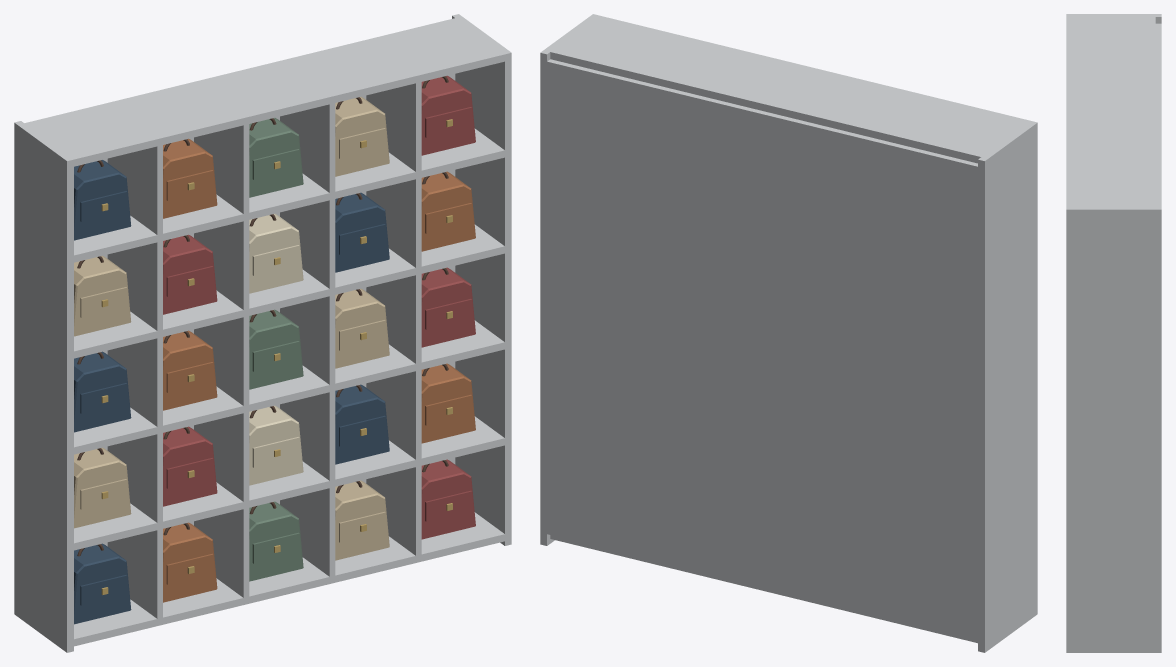
Rendered from shelf-bags.glb.
The picture shows the model from 3 angles, left to right: view 1: azimuth 30°, elevation 25°; view 2: azimuth 150°, elevation 25°; view 3: azimuth 270°, elevation 25°; orthographic projection. The views are drawn at different scales.
Parts seen in each view (by area): view 1: display-deck (×6), display-divider (×20), display-side (×2), stock-bags_40566b, stock-bags_c8b99c, stock-bags_9a5353, stock-bags_ad7652, stock-bags_718878, stock-bags_d9d1ba, stock-details_ad7652, stock-details_40566b, stock-details_9a5353 (+5 smaller); view 2: display-back, display-side (×2), display-deck (×2); view 3: display-side (×2), display-deck, display-back.
Part boxes in pixels (<box>): display-deck (×6): <box>24,18,504,646</box>; display-divider (×20): <box>107,82,421,618</box>; display-side (×2): <box>14,14,511,652</box>; stock-bags_40566b: <box>74,160,389,624</box>; stock-bags_c8b99c: <box>74,96,389,560</box>; stock-bags_9a5353: <box>163,75,475,539</box>; stock-bags_ad7652: <box>163,138,475,602</box>; stock-bags_718878: <box>249,118,303,581</box>; stock-bags_d9d1ba: <box>249,213,303,485</box>; stock-details_ad7652: <box>166,170,471,584</box>; stock-details_40566b: <box>80,191,385,605</box>; stock-details_9a5353: <box>166,107,471,521</box>; display-back: <box>547,59,977,639</box>; display-side (×2): <box>540,14,1037,652</box>; display-deck (×2): <box>550,15,1030,643</box>; display-side (×2): <box>1066,14,1161,652</box>; display-deck: <box>1066,17,1155,206</box>; display-back: <box>1155,23,1161,206</box>.
Bounding box in the file's own units: 1.94 × 2.05 × 0.4.
